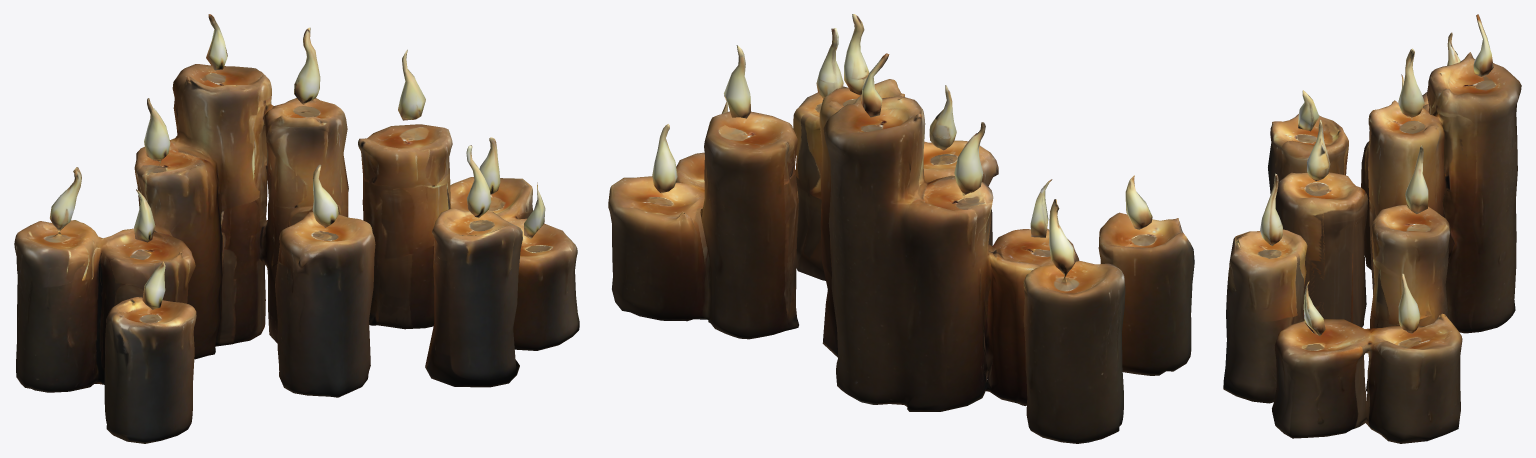
The model's file is bunch_of_candles_Styl_0124133436_texture.fbx.
The picture shows the model from 3 angles, left to right: view 1: azimuth 30°, elevation 25°; view 2: azimuth 150°, elevation 25°; view 3: azimuth 270°, elevation 25°; orthographic projection. The views are drawn at different scales.
Parts seen in each view (by area): view 1: Mesh1_Mesh1.004; view 2: Mesh1_Mesh1.004; view 3: Mesh1_Mesh1.004.
Boxes of the visible parts, x1,y1,x2,y2 form: Mesh1_Mesh1.004: (14,14,579,443); Mesh1_Mesh1.004: (608,14,1194,443); Mesh1_Mesh1.004: (1223,14,1521,443).
Bounding box in the file's own units: 198 × 121 × 110.
Materials: 1 (1 with a texture image).
